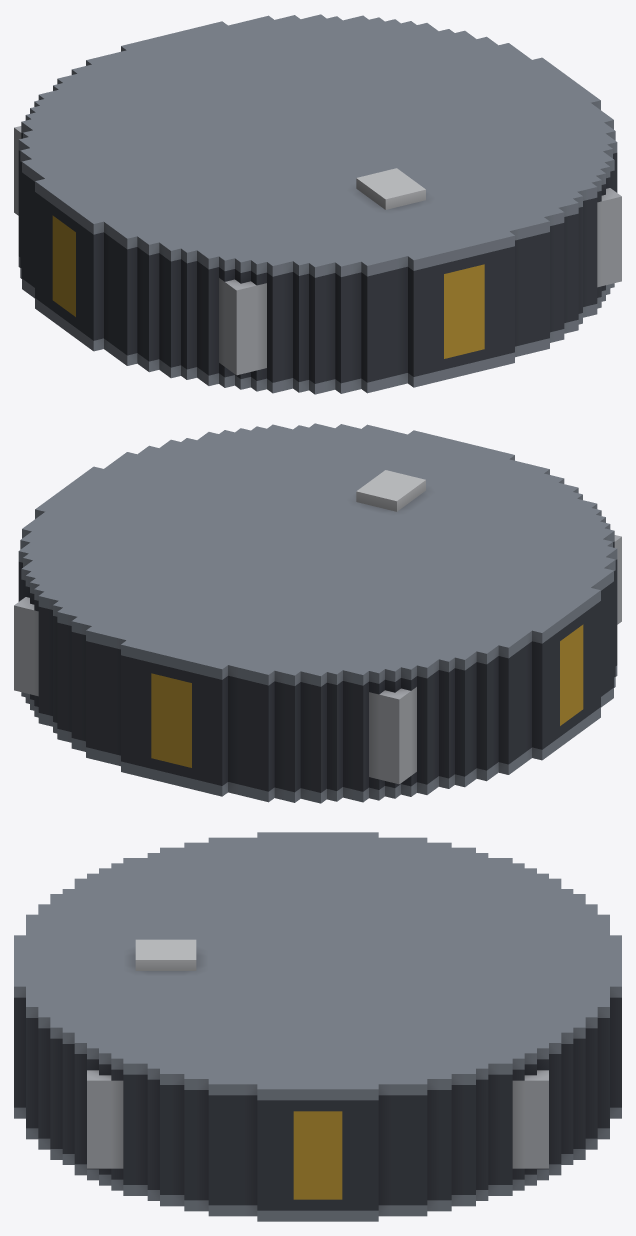
File: avionics_core_m.glb
The picture shows the model from 3 angles, top to bottom: view 1: azimuth 30°, elevation 25°; view 2: azimuth 150°, elevation 25°; view 3: azimuth 270°, elevation 25°; orthographic projection. The views are drawn at different scales.
Visible parts, largest first — view 1: avionics_core_m; view 2: avionics_core_m; view 3: avionics_core_m.
Part boxes in pixels (left/top/right/bottom): avionics_core_m: left=14, top=14, right=621, bottom=394; avionics_core_m: left=14, top=423, right=621, bottom=803; avionics_core_m: left=14, top=832, right=621, bottom=1221.
Size of the model in its own units: 2.5 by 0.65 by 2.5.
